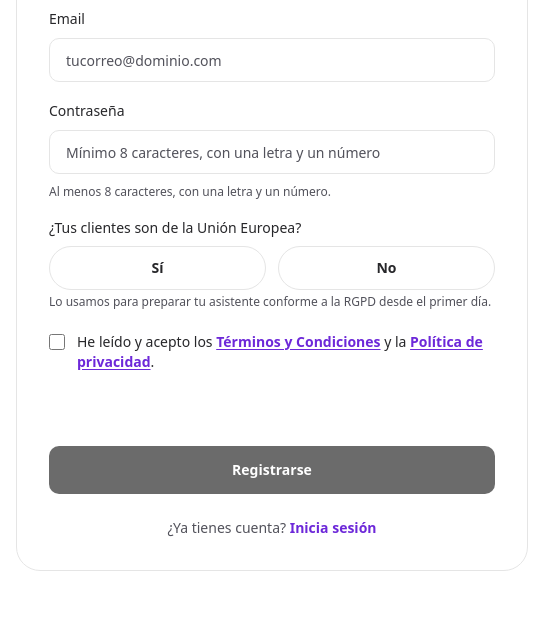
Scenario: RegisterPage › habilita ambos botones al marcar la casilla de términos
The image size is (545, 619).
(page scrolled)
Step 1. Click the checkbox → point(57, 342), box [49,334,65,350]
(page scrolled)
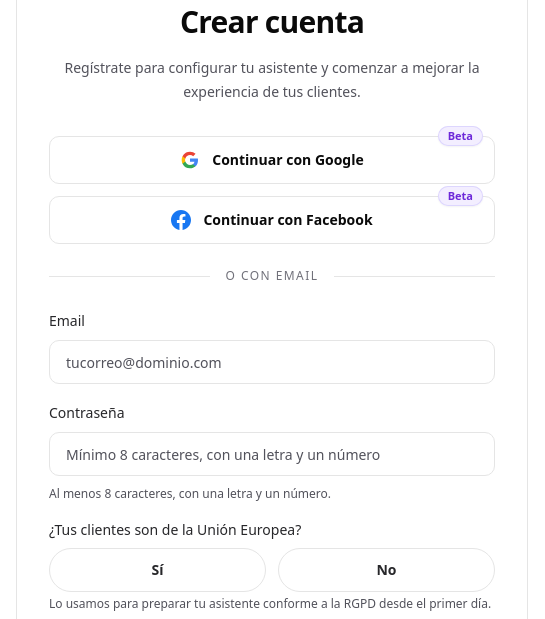
Now the button "Continuar con Google" is enabled, box [49,136,495,184]
